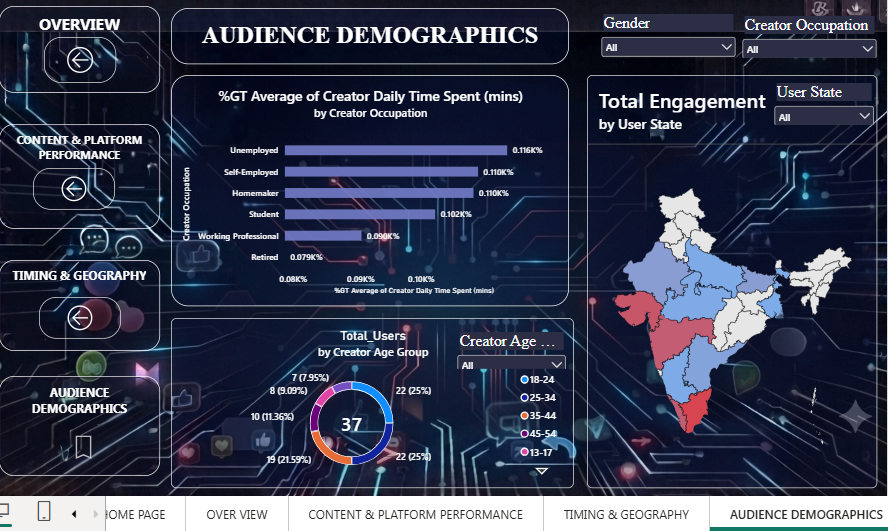

The dashboard page shown, as its layout file describes it:
{"tool":"powerbi","page":{"name":"AUDIENCE DEMOGRAPHICS","canvas":[1280,720],"ordinal":4},"visuals":[{"type":"clusteredBarChart","fields":{"Category":["Engagement System Data.Creator Occupation"],"Y":["Sum(Engagement System Data.Creator Daily Time Spent (mins))"]},"box":[247.7,113.8,573.1,332.6],"z":0},{"type":"donutChart","fields":{"Category":["Engagement System Data.Creator Age Group"],"Y":["Engagement System Data.Total_Users"]},"box":[247.7,463.7,580.3,244.8],"z":1000},{"type":"shapeMap","fields":{"Value":["Sum(Engagement System Data.Engagement Rate (%))"],"Category":["Engagement System Data.User State"]},"box":[846.7,113.8,417.6,594.7],"z":2000},{"type":"actionButton","box":[247.7,17.3,573.1,80.6],"z":3000},{"type":"shape","box":[0,184.3,231.8,151.2],"z":4000},{"type":"shape","box":[0,14.4,231.8,125.3],"z":5000},{"type":"shape","box":[0,380.2,231.8,131],"z":6000},{"type":"shape","box":[0,547.2,231.8,144],"z":7000},{"type":"actionButton","box":[64.8,59,103.7,66.2],"z":8000},{"type":"actionButton","box":[49,247.7,118.1,60.5],"z":9000},{"type":"actionButton","box":[57.6,433.4,118.1,60.5],"z":10000},{"type":"actionButton","box":[76.3,619.2,90.7,60.5],"z":11000},{"type":"slicer","fields":{"Values":["Final Dataset.Gender"]},"box":[862.6,25.9,203,63.4],"z":12000},{"type":"slicer","fields":{"Values":["Engagement System Data.Creator Occupation"]},"box":[1065.6,28.8,203,60.5],"z":13000},{"type":"slicer","fields":{"Values":["Engagement System Data.Creator Age Group"]},"box":[655.2,483.8,165.6,53.3],"z":14000},{"type":"slicer","fields":{"Values":["Engagement System Data.User State"]},"box":[1111.7,125.3,152.6,60.5],"z":15000}]}

Visuals, with their boxes on the page's 1280x720 design canvas (x1, y1, x2, y2). These are canvas units, not pixel positions in the 888x531 screenshot, which may show the page scaled, cropped or inside an application window:
clusteredBarChart - Engagement System Data.Creator Occupation x Sum(Engagement System Data.Creator Daily Time Spent (mins)): locate(248, 114, 821, 446)
donutChart - Engagement System Data.Creator Age Group x Engagement System Data.Total_Users: locate(248, 464, 828, 708)
shapeMap - Sum(Engagement System Data.Engagement Rate (%)) x Engagement System Data.User State: locate(847, 114, 1264, 708)
actionButton: locate(248, 17, 821, 98)
shape: locate(0, 184, 232, 336)
shape: locate(0, 14, 232, 140)
shape: locate(0, 380, 232, 511)
shape: locate(0, 547, 232, 691)
actionButton: locate(65, 59, 168, 125)
actionButton: locate(49, 248, 167, 308)
actionButton: locate(58, 433, 176, 494)
actionButton: locate(76, 619, 167, 680)
slicer - Final Dataset.Gender: locate(863, 26, 1066, 89)
slicer - Engagement System Data.Creator Occupation: locate(1066, 29, 1269, 89)
slicer - Engagement System Data.Creator Age Group: locate(655, 484, 821, 537)
slicer - Engagement System Data.User State: locate(1112, 125, 1264, 186)
